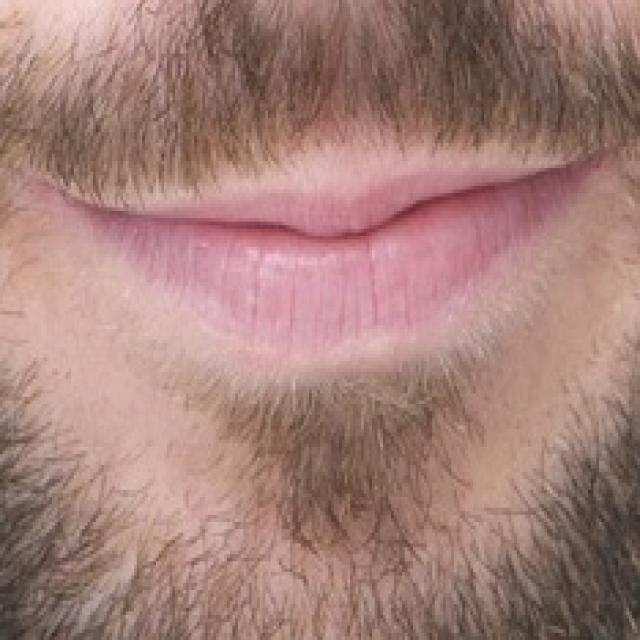closed-mouth: (33, 136, 610, 382)
